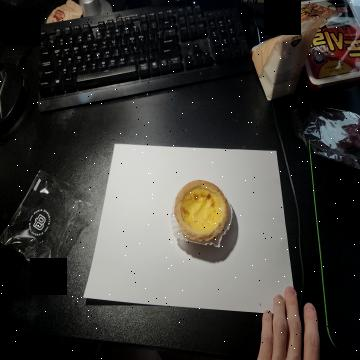EggTart: (174, 178, 229, 243)
